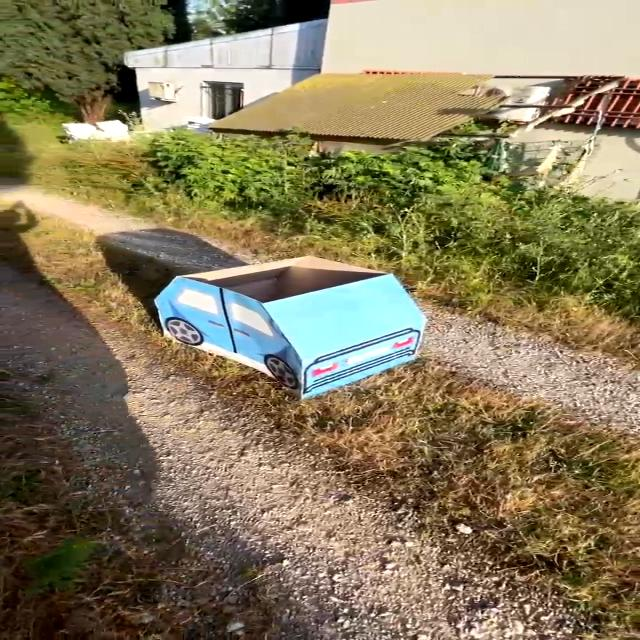blue_car: (108, 226, 462, 411)
